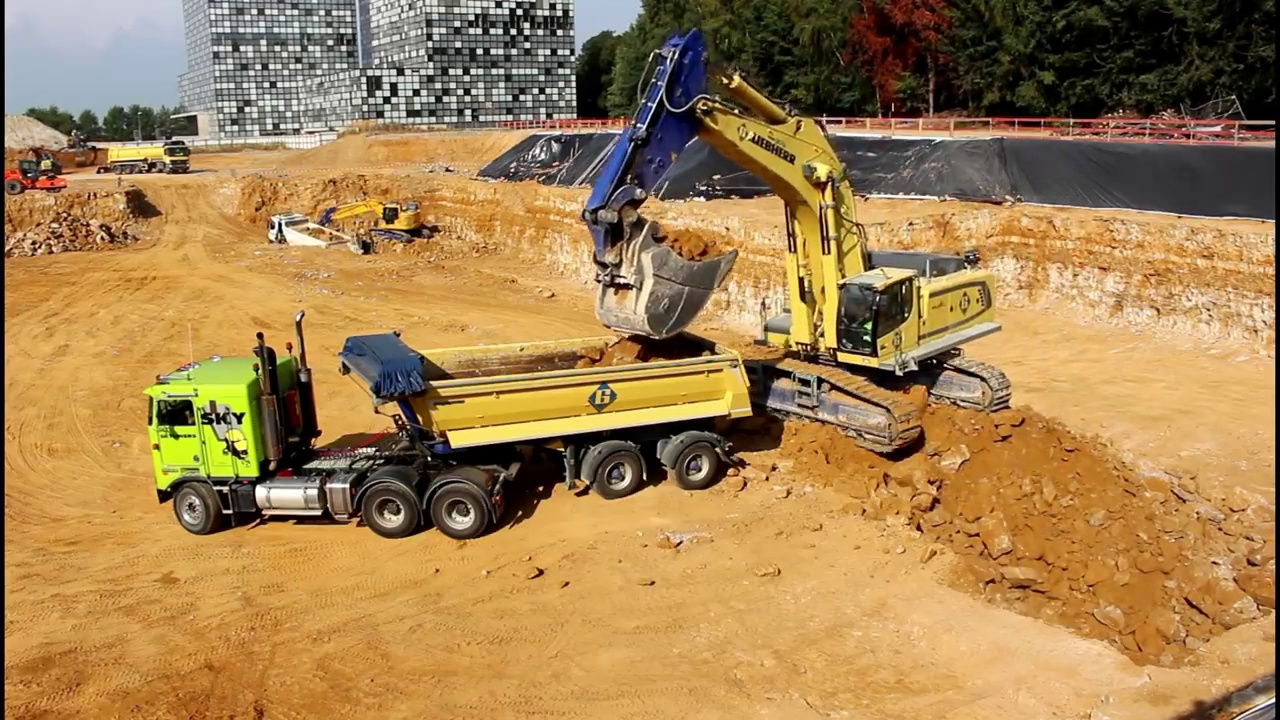compactor: (5, 157, 71, 200)
excavator: (576, 26, 1018, 458), (314, 198, 442, 252), (47, 123, 106, 174)
truck: (140, 306, 757, 547), (266, 210, 366, 274), (102, 133, 197, 181)
